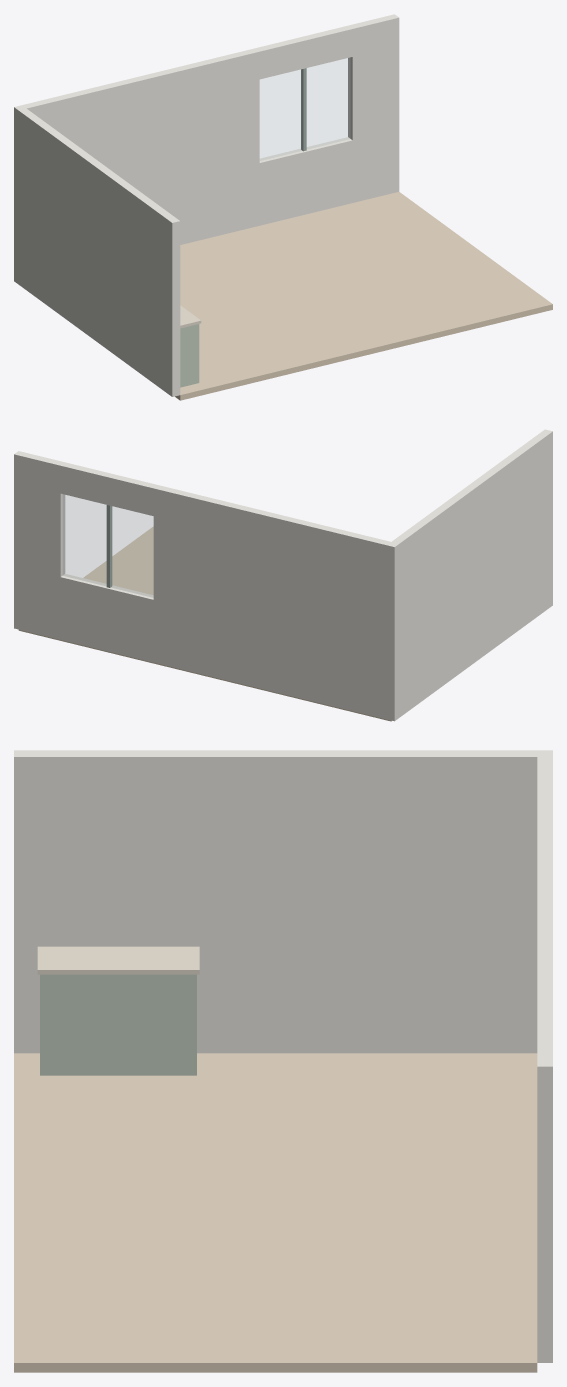
File: room.glb
The picture shows the model from 3 angles, top to bottom: view 1: azimuth 30°, elevation 25°; view 2: azimuth 150°, elevation 25°; view 3: azimuth 270°, elevation 25°; orthographic projection. The views are drawn at different scales.
Parts seen in each view (by area): view 1: Floor slab, Left wall, Back wall west, Back wall east, Window pane, Back wall below window, Back wall above window, Cabinet body, Window mullion; view 2: Back wall west, Left wall, Back wall east, Window pane, Back wall below window, Back wall above window, Floor slab, Window mullion; view 3: Floor slab, Left wall, Cabinet body, Back wall east, Cabinet top, Back wall west, Back wall above window.
Part boxes in pixels (x1=…): Floor slab: x1=175, y1=192, x2=552, y2=400; Left wall: x1=18, y1=108, x2=180, y2=396; Back wall west: x1=14, y1=48, x2=259, y2=284; Back wall east: x1=348, y1=14, x2=399, y2=202; Window pane: x1=260, y1=58, x2=350, y2=160; Back wall below window: x1=259, y1=137, x2=352, y2=225; Back wall above window: x1=255, y1=25, x2=352, y2=79; Cabinet body: x1=180, y1=324, x2=199, y2=387; Window mullion: x1=301, y1=68, x2=306, y2=151; Back wall west: x1=153, y1=485, x2=399, y2=721; Left wall: x1=391, y1=429, x2=552, y2=717; Back wall east: x1=14, y1=451, x2=65, y2=639; Window pane: x1=63, y1=494, x2=153, y2=597; Back wall below window: x1=60, y1=574, x2=153, y2=662; Back wall above window: x1=60, y1=462, x2=157, y2=515; Floor slab: x1=18, y1=526, x2=391, y2=721; Window mullion: x1=106, y1=505, x2=112, y2=587; Floor slab: x1=14, y1=1053, x2=537, y2=1372; Left wall: x1=14, y1=750, x2=537, y2=1053; Cabinet body: x1=40, y1=974, x2=196, y2=1075; Back wall east: x1=537, y1=1028, x2=552, y2=1362; Cabinet top: x1=37, y1=946, x2=199, y2=974; Back wall west: x1=537, y1=750, x2=552, y2=950; Back wall above window: x1=537, y1=950, x2=552, y2=1027.
Size of the model in its own units: 5.72 by 2.58 by 4.12.
